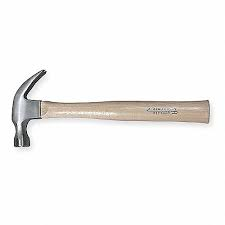martillu: (2, 66, 215, 148)
